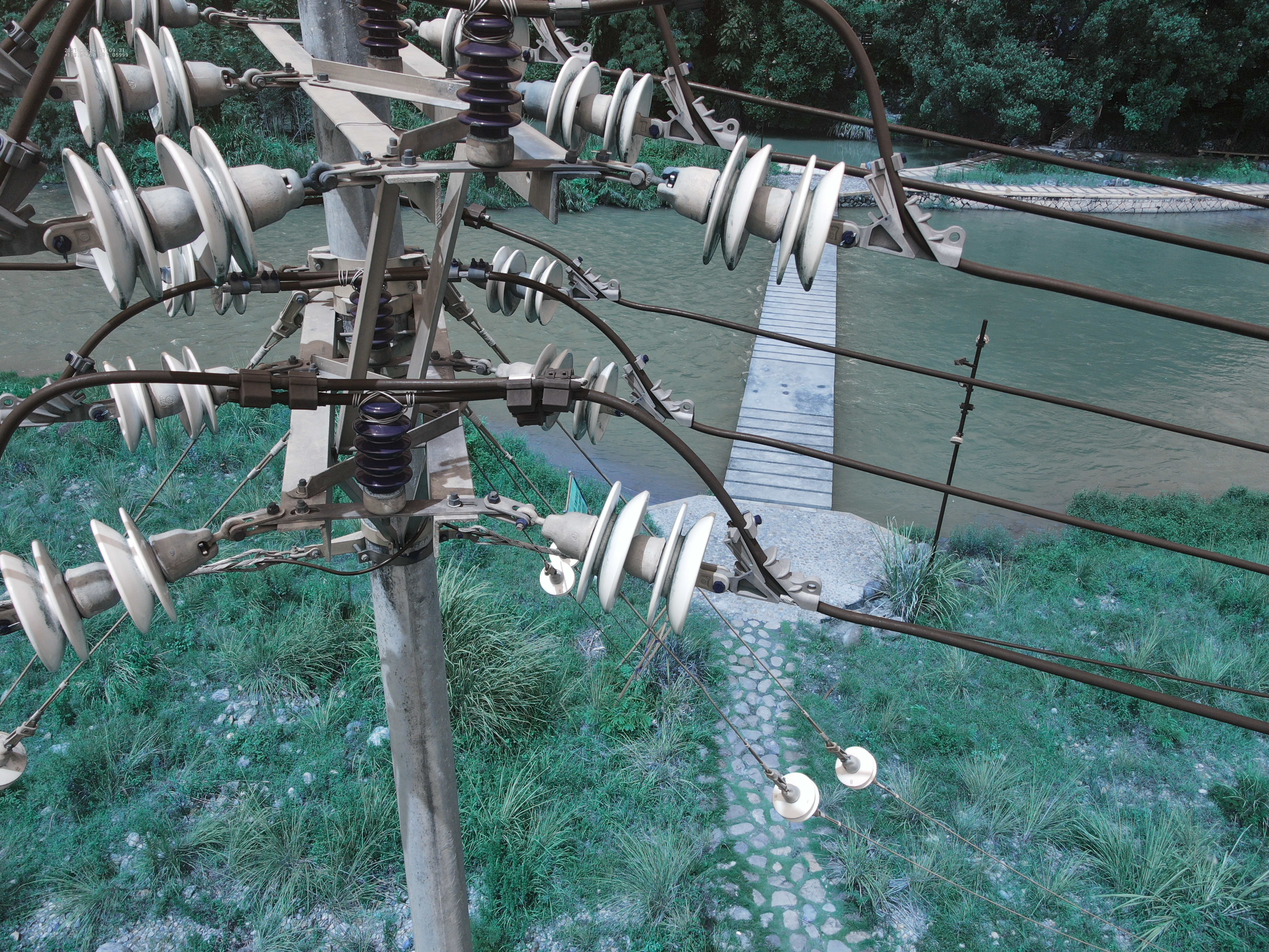severe_soiling_no_discharge_whole: (60, 125, 312, 312), (0, 503, 223, 674), (654, 133, 845, 294), (59, 23, 241, 148), (518, 57, 656, 164), (493, 342, 623, 450), (154, 238, 277, 319), (464, 243, 565, 329), (69, 1, 200, 52), (415, 3, 471, 74)
